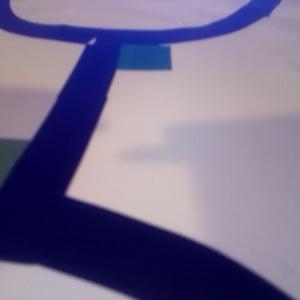bottom_right: (86, 30, 171, 70)
top_left: (1, 138, 63, 237)
